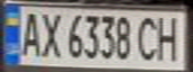3: (97, 11, 118, 60), (81, 11, 100, 60)
6: (63, 10, 84, 60)
8: (115, 12, 136, 61)
A: (15, 9, 45, 57)
C: (133, 14, 163, 62)
H: (151, 12, 187, 62)
X: (36, 9, 63, 58)
